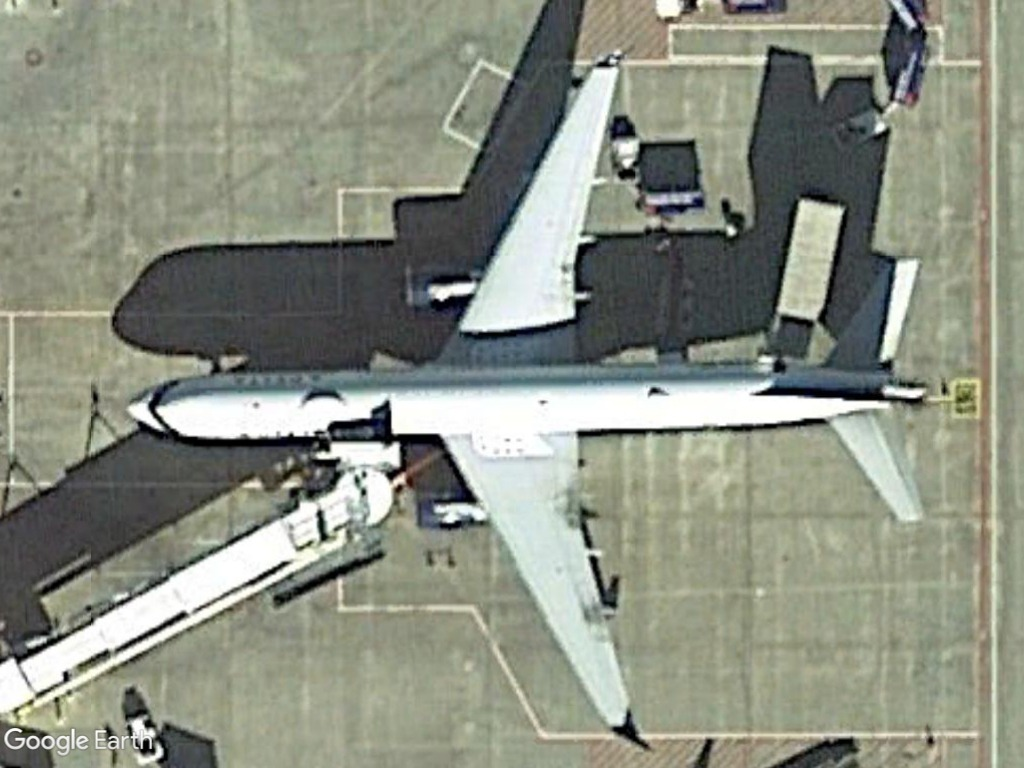airliner: (117, 31, 927, 754)
